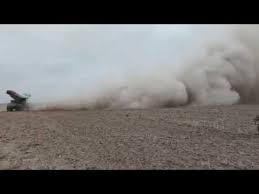MIL_SAM_TEL: (5, 86, 31, 112)
